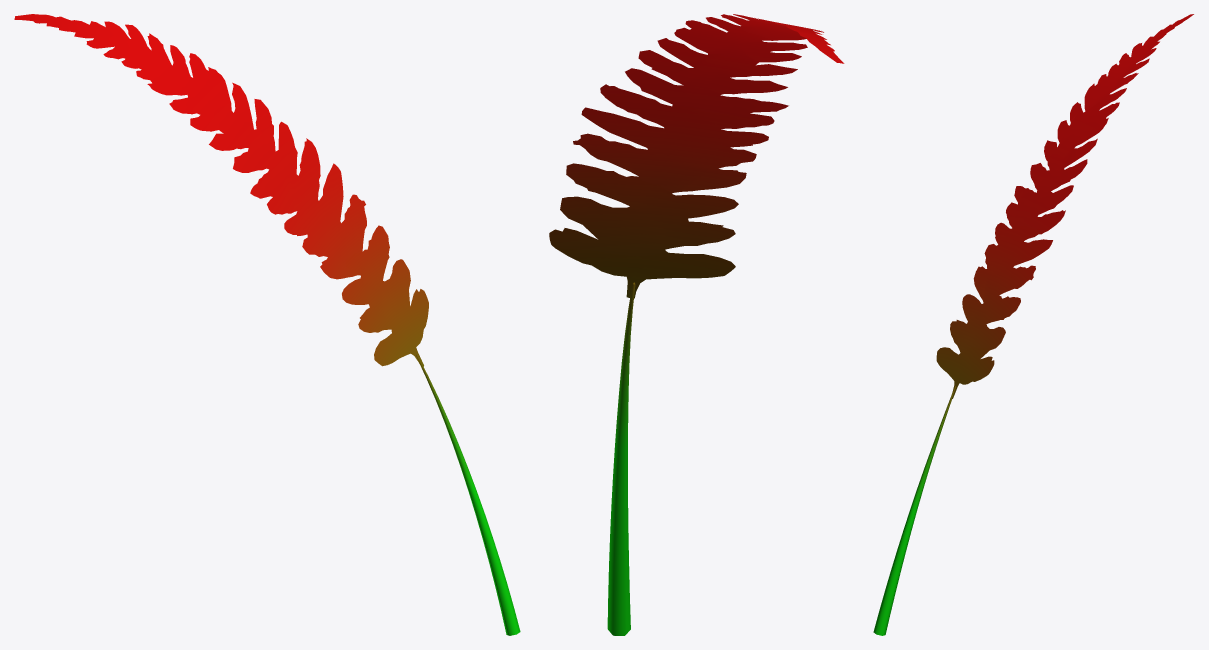
The model's file is Silvery Glade Fern_LOD0_Var1_xf5lebcqx.fbx.
3 renders of one model, left to right at view 1: azimuth 30°, elevation 25°; view 2: azimuth 150°, elevation 25°; view 3: azimuth 270°, elevation 25°, orthographic. The views are drawn at different scales.
Visible parts, largest first — view 1: _kfom_Var1_LOD0; view 2: _kfom_Var1_LOD0; view 3: _kfom_Var1_LOD0.
Part boxes in pixels (left/top/right/bottom): _kfom_Var1_LOD0: left=14, top=14, right=520, bottom=635; _kfom_Var1_LOD0: left=549, top=14, right=844, bottom=635; _kfom_Var1_LOD0: left=873, top=14, right=1193, bottom=635.
Bounding box in the file's own units: 7.02 × 11.65 × 6.94.
